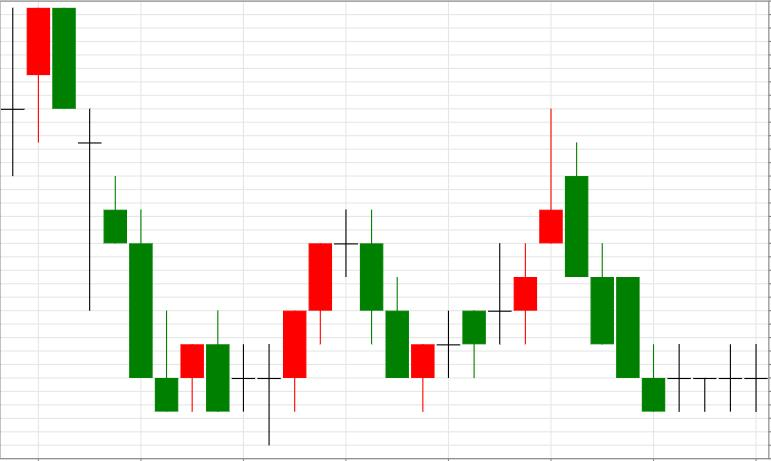inverse_hammer_rise: (52, 8, 178, 412)
shooting_star_fall: (411, 110, 562, 412)
